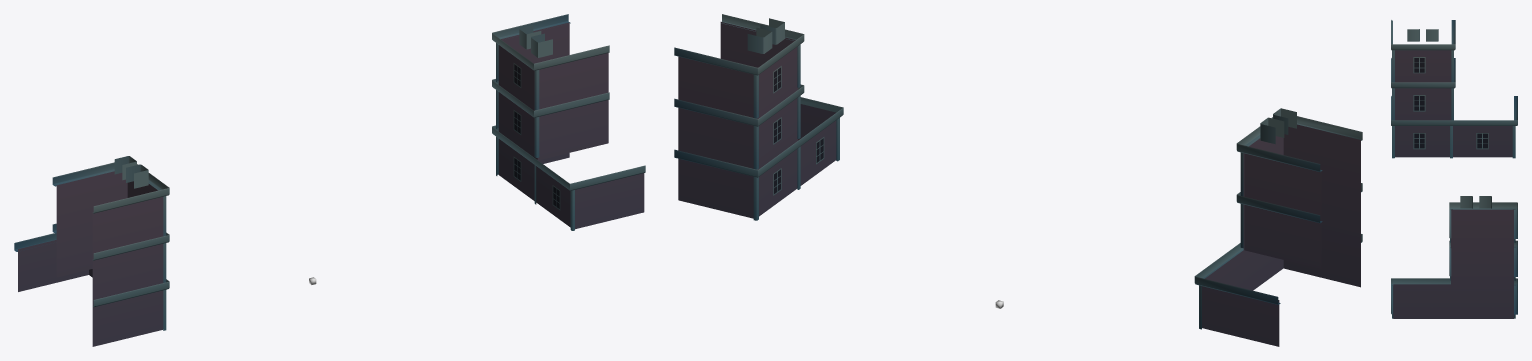
File: FarBackBuilding02_new.fbx
The picture shows the model from 3 angles, left to right: view 1: azimuth 30°, elevation 25°; view 2: azimuth 150°, elevation 25°; view 3: azimuth 270°, elevation 25°; orthographic projection. The views are drawn at different scales.
Visible parts, largest first — view 1: FarBackBuilding02; view 2: FarBackBuilding02; view 3: FarBackBuilding02.
Part boxes in pixels (<box>): FarBackBuilding02: <box>14,14,645,346</box>; FarBackBuilding02: <box>674,14,1362,346</box>; FarBackBuilding02: <box>1391,20,1517,318</box>.
Size of the model in its own units: 7634 by 2628 by 1869.
